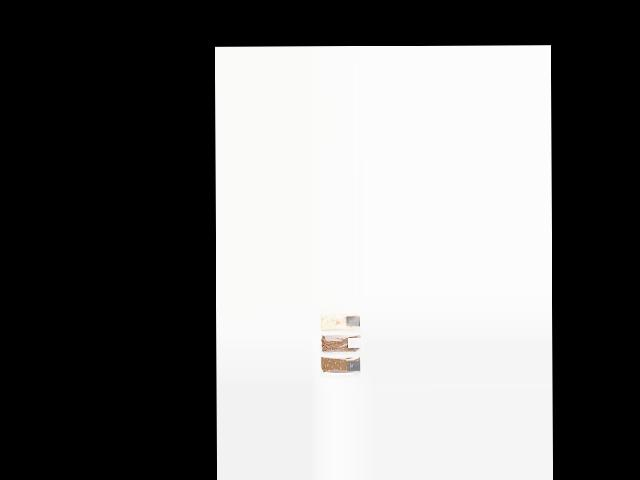chocolate: (317, 355, 359, 379)
